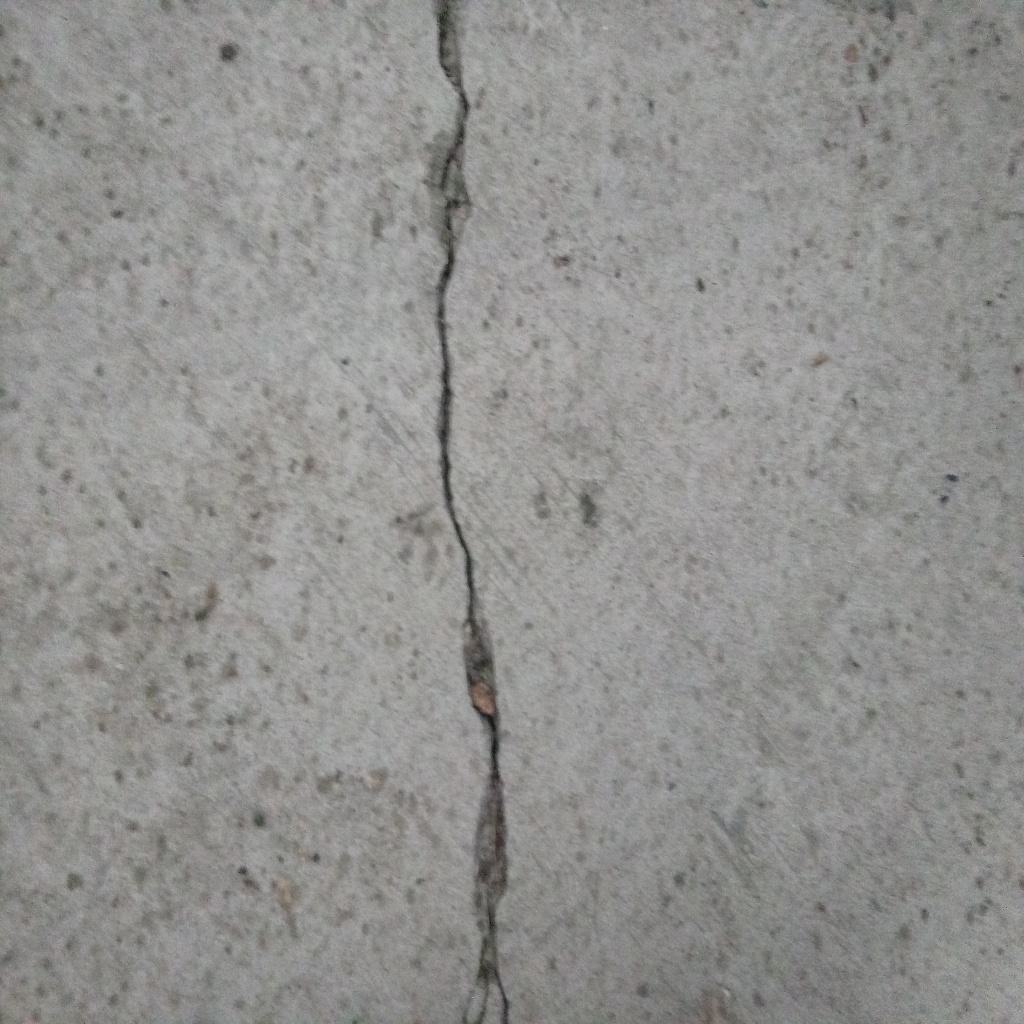Crack: (437, 1, 512, 1024)
